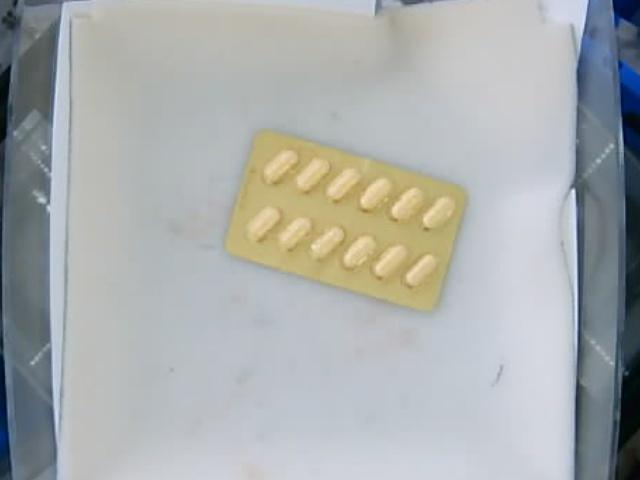Medicine: (228, 131, 468, 311)
